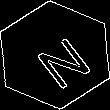N_NW: (21, 23, 89, 87)
